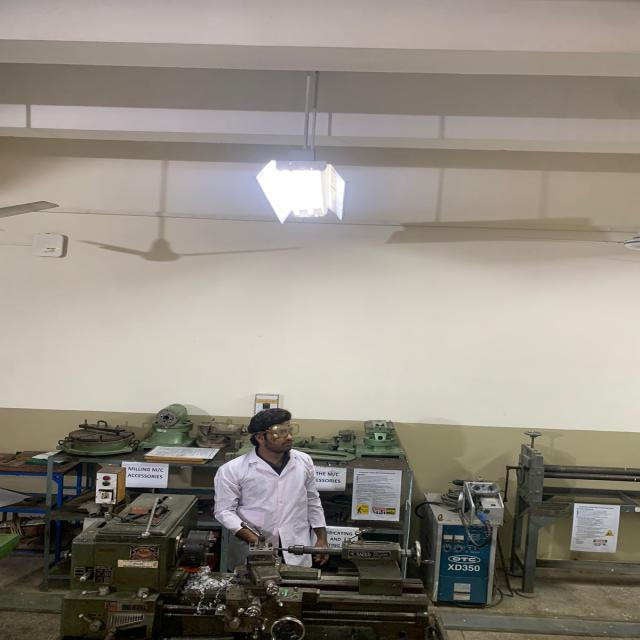googles: (266, 421, 303, 441)
labcoat: (209, 438, 331, 569)
